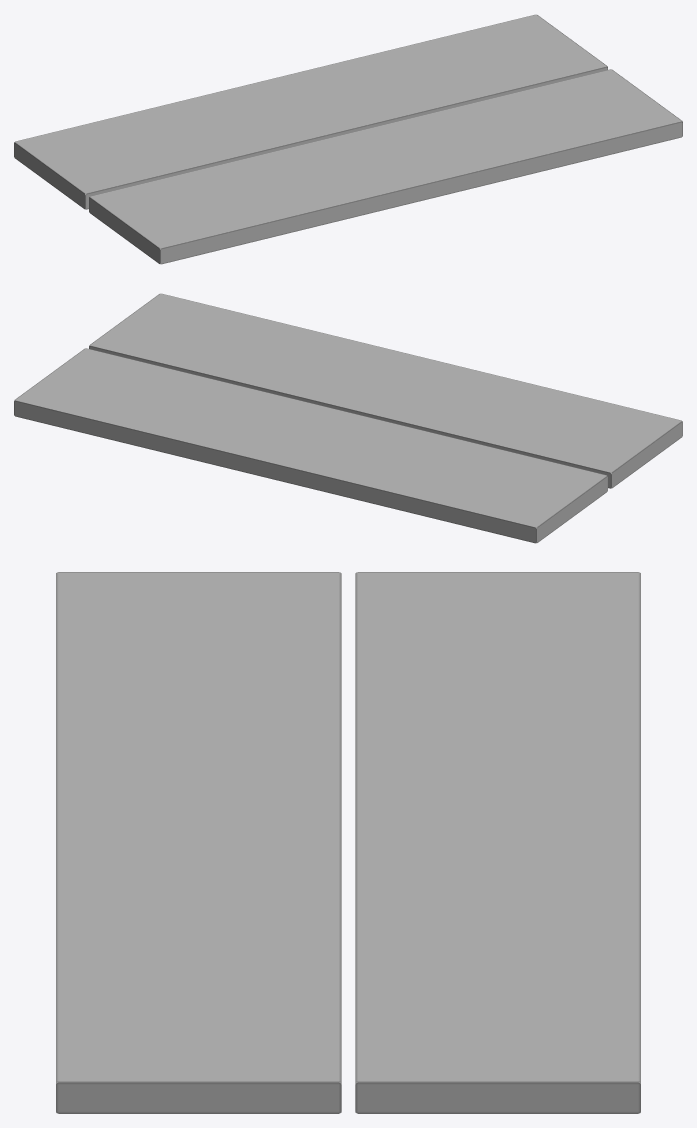
The model's file is pz_barricade_2.obj.
The picture shows the model from 3 angles, top to bottom: view 1: azimuth 30°, elevation 25°; view 2: azimuth 150°, elevation 25°; view 3: azimuth 270°, elevation 25°; orthographic projection. The views are drawn at different scales.
Bounding box in the file's own units: 1 × 0.029 × 0.4848.
Materials: 1 (1 with a texture image).
